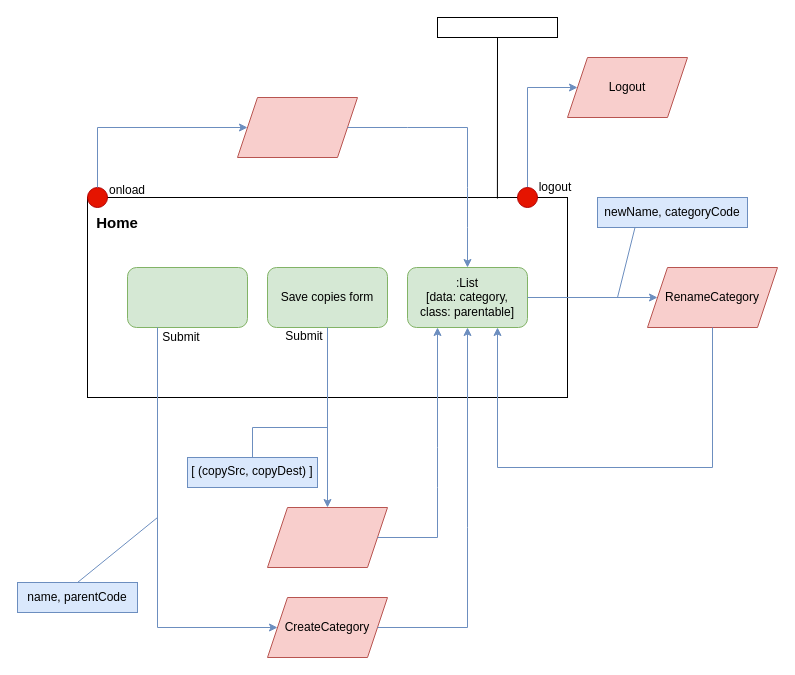
Image size: 795x675. Some labels were removed from this diagram. Here are the shapes that lost their labels. From the top down, the centre of each, then its label:
point 497,27: Session.user.id
point 297,127: GetCategories
point 187,297: New category form [Field: name, Field: parentCode]
point 327,537: DoCopy
